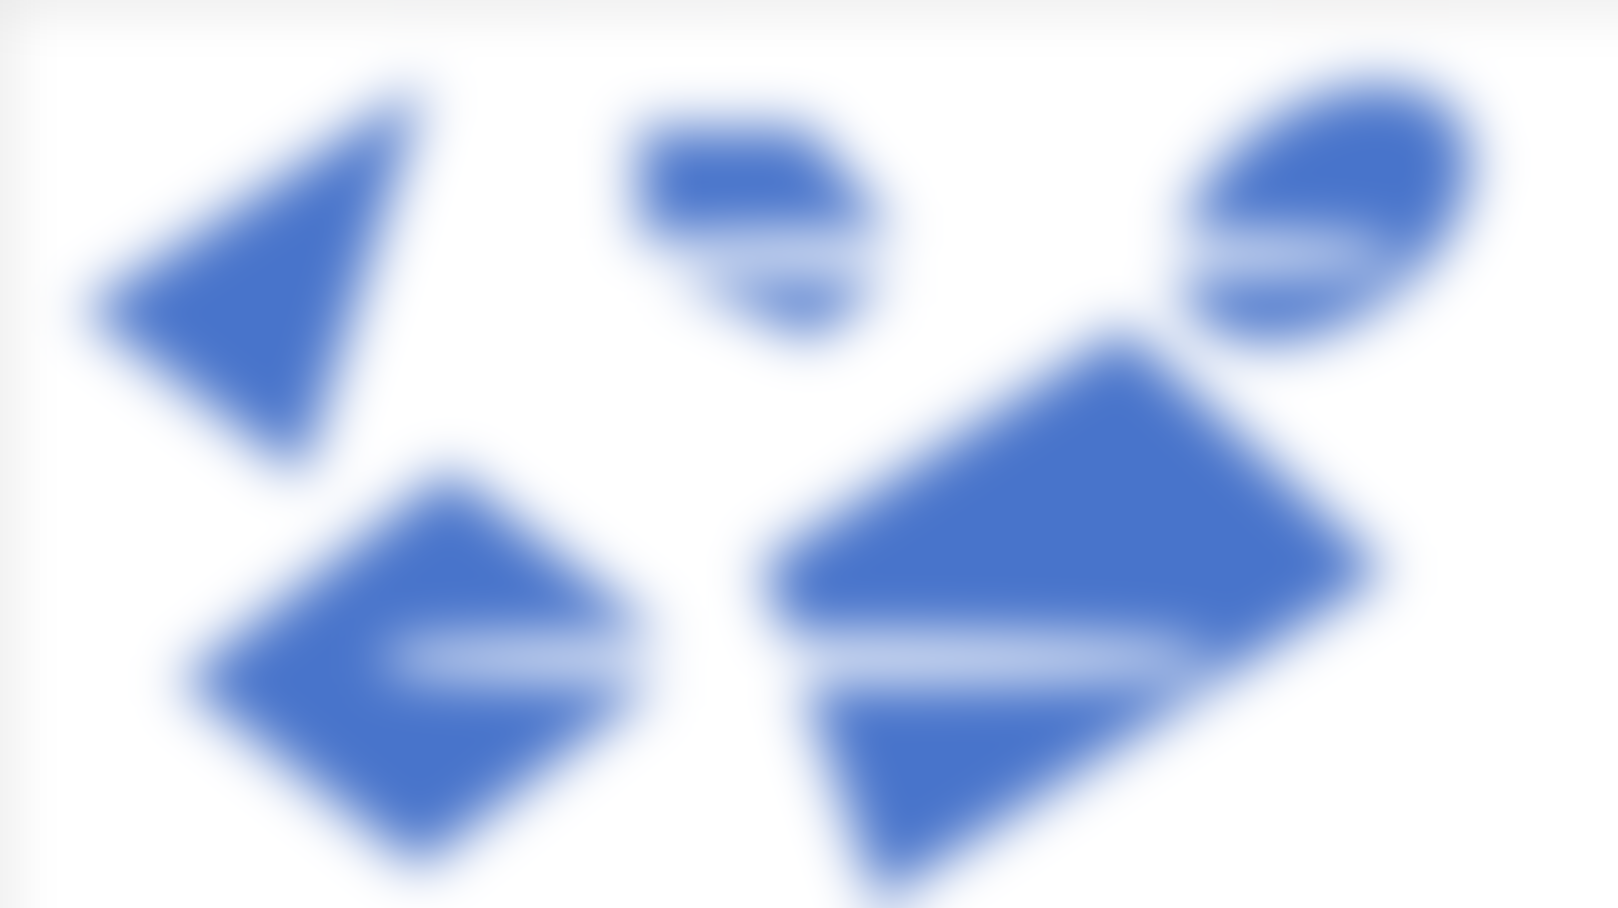circle: (1161, 38, 1504, 363)
parallelogram: (184, 485, 689, 857)
pentagon: (611, 74, 946, 370)
trapezium: (751, 349, 1407, 864)
triangle: (63, 79, 473, 480)
